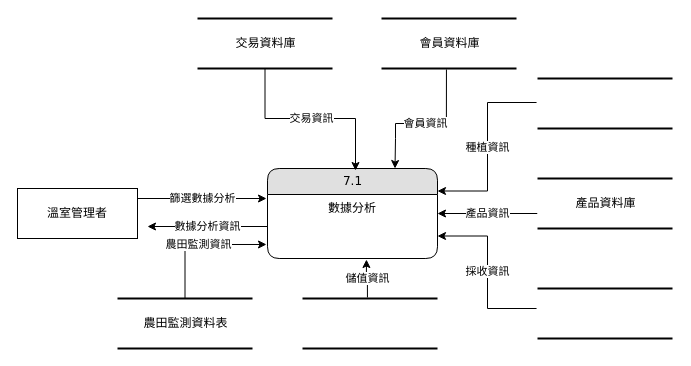
This 691x366 diagram has some shape labels left out. Here are the shapes that lost their labels. From the top down, the centre of each, then its label:
At [604,103]: "種植資料庫".
At [369,323]: "儲值資料表".
At [604,313]: "採收資料庫".
